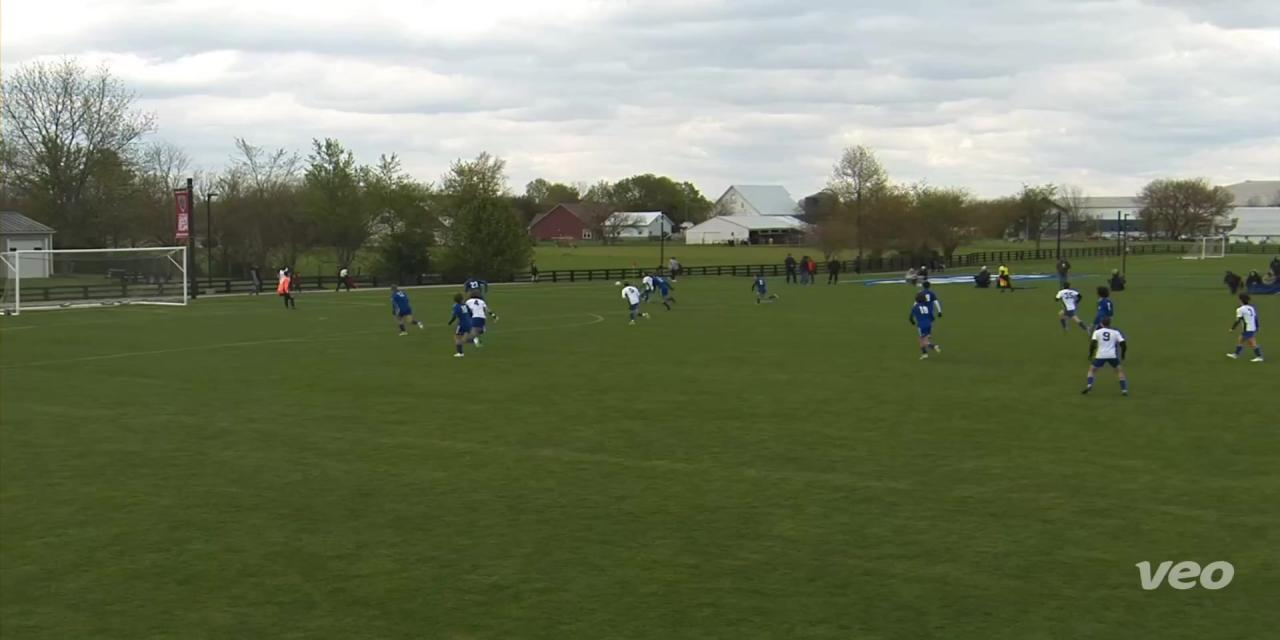goal: (3, 242, 202, 316)
sports ball: (607, 270, 625, 290)
